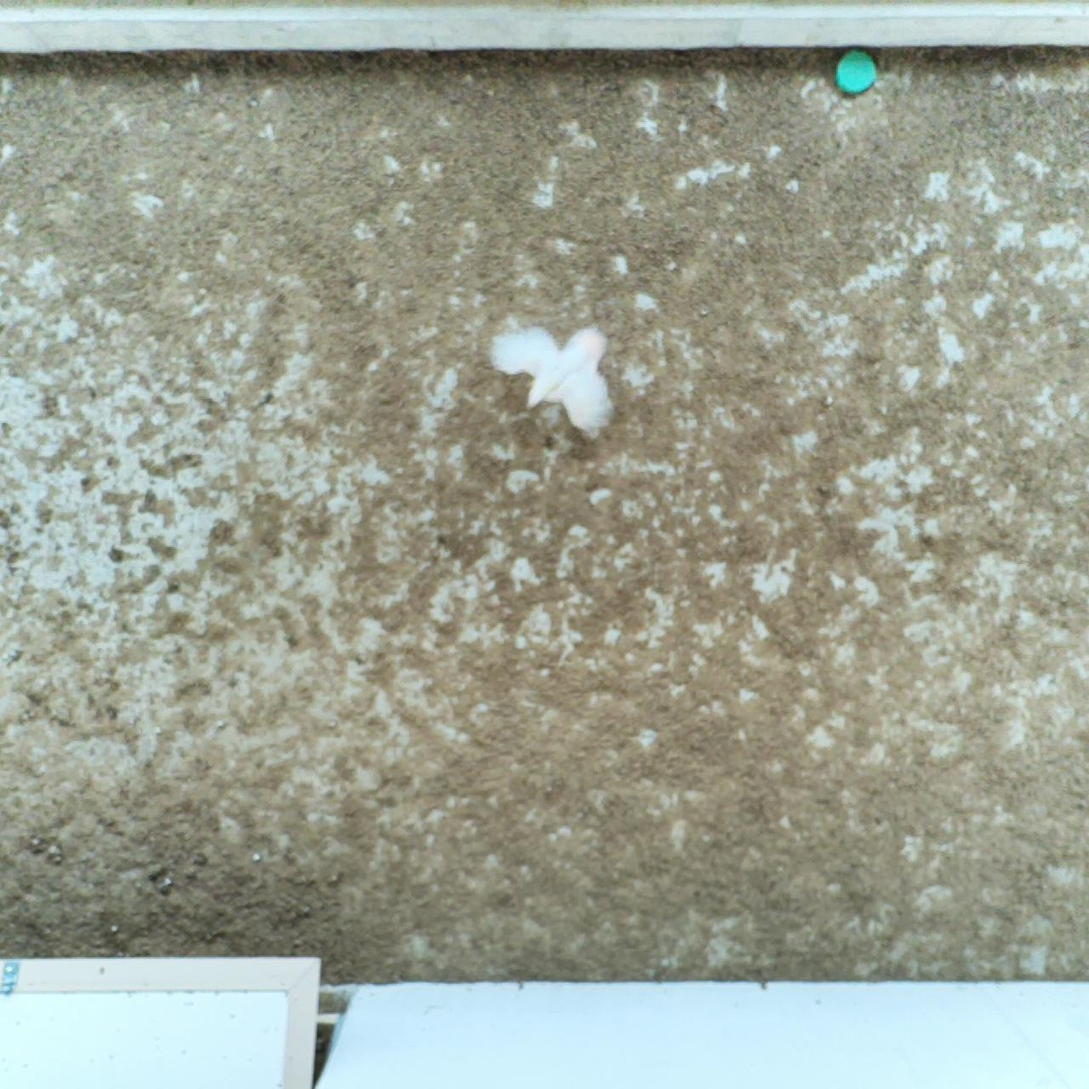chicken: (489, 320, 626, 436)
